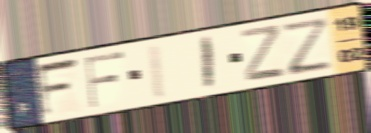F: (34, 55, 82, 121), (84, 49, 126, 110)
I: (146, 41, 168, 102), (201, 33, 216, 93)
Z: (280, 14, 334, 78), (239, 22, 287, 83)
